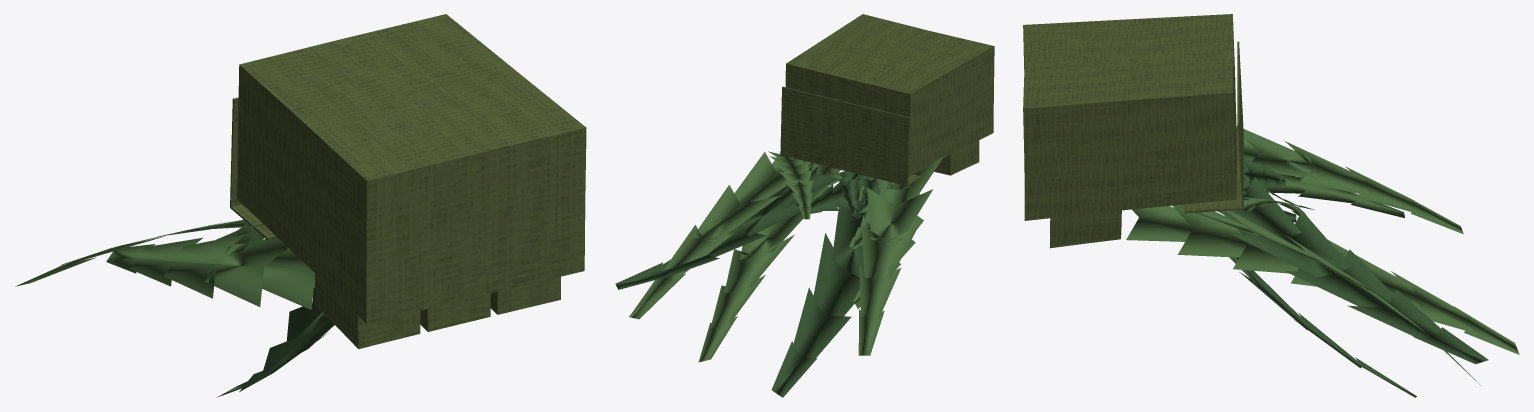
Rendered from pack_ruck_full_foliage.glb.
3 views of the same model, side by side, from view 1: azimuth 30°, elevation 25°; view 2: azimuth 150°, elevation 25°; view 3: azimuth 270°, elevation 25° (orthographic). The views are drawn at different scales.
Visible parts, largest first — view 1: pack_ruck_full_foliage, pack_ruck_full_foliage_sprig_11, pack_ruck_full_foliage_sprig_2, pack_ruck_full_foliage_sprig_8; view 2: pack_ruck_full_foliage, pack_ruck_full_foliage_sprig_2, pack_ruck_full_foliage_sprig_8, pack_ruck_full_foliage_sprig_4, pack_ruck_full_foliage_sprig_7, pack_ruck_full_foliage_sprig_0, pack_ruck_full_foliage_sprig_1, pack_ruck_full_foliage_sprig_13, pack_ruck_full_foliage_sprig_5, pack_ruck_full_foliage_sprig_3, pack_ruck_full_foliage_sprig_9; view 3: pack_ruck_full_foliage, pack_ruck_full_foliage_sprig_0, pack_ruck_full_foliage_sprig_7, pack_ruck_full_foliage_sprig_8, pack_ruck_full_foliage_sprig_4, pack_ruck_full_foliage_sprig_11, pack_ruck_full_foliage_sprig_2, pack_ruck_full_foliage_sprig_5, pack_ruck_full_foliage_sprig_1.
Part boxes in pixels (<box>): pack_ruck_full_foliage: <box>230,14,586,349</box>; pack_ruck_full_foliage_sprig_11: <box>106,234,314,309</box>; pack_ruck_full_foliage_sprig_2: <box>216,288,334,397</box>; pack_ruck_full_foliage_sprig_8: <box>15,219,267,286</box>; pack_ruck_full_foliage: <box>780,14,994,185</box>; pack_ruck_full_foliage_sprig_2: <box>771,203,865,397</box>; pack_ruck_full_foliage_sprig_8: <box>858,157,943,355</box>; pack_ruck_full_foliage_sprig_4: <box>629,152,811,319</box>; pack_ruck_full_foliage_sprig_7: <box>698,162,839,362</box>; pack_ruck_full_foliage_sprig_0: <box>615,162,837,289</box>; pack_ruck_full_foliage_sprig_1: <box>768,151,812,219</box>; pack_ruck_full_foliage_sprig_13: <box>810,175,870,213</box>; pack_ruck_full_foliage_sprig_5: <box>838,171,860,213</box>; pack_ruck_full_foliage_sprig_3: <box>849,181,912,249</box>; pack_ruck_full_foliage_sprig_9: <box>791,163,842,216</box>; pack_ruck_full_foliage: <box>1023,14,1243,248</box>; pack_ruck_full_foliage_sprig_0: <box>1218,177,1488,364</box>; pack_ruck_full_foliage_sprig_7: <box>1126,205,1519,354</box>; pack_ruck_full_foliage_sprig_8: <box>1236,126,1463,234</box>; pack_ruck_full_foliage_sprig_4: <box>1176,204,1480,385</box>; pack_ruck_full_foliage_sprig_11: <box>1247,174,1404,218</box>; pack_ruck_full_foliage_sprig_2: <box>1229,257,1416,397</box>; pack_ruck_full_foliage_sprig_5: <box>1237,156,1285,188</box>; pack_ruck_full_foliage_sprig_1: <box>1240,196,1306,216</box>.
Bounding box in the file's own units: 0.6482 × 0.6611 × 0.8598.
Materials: 2 (2 with a texture image).
